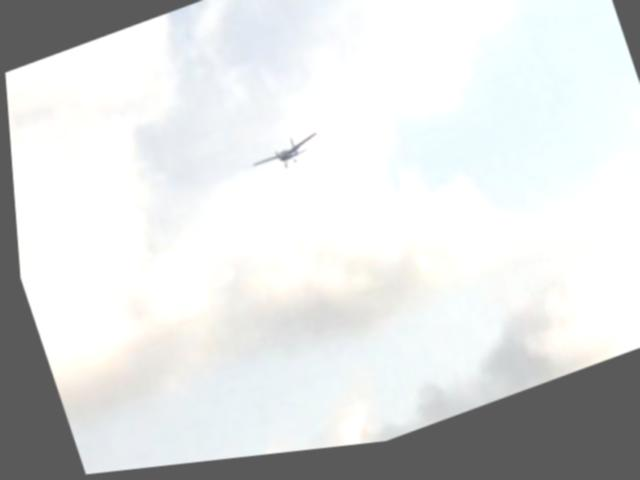uav: (239, 123, 327, 193)
